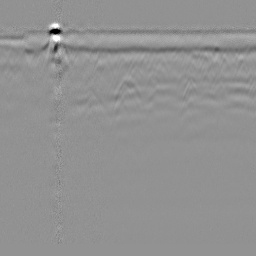cavity: (111, 70, 142, 101)
